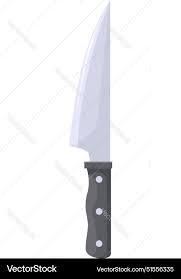Knife: (69, 0, 111, 258)
